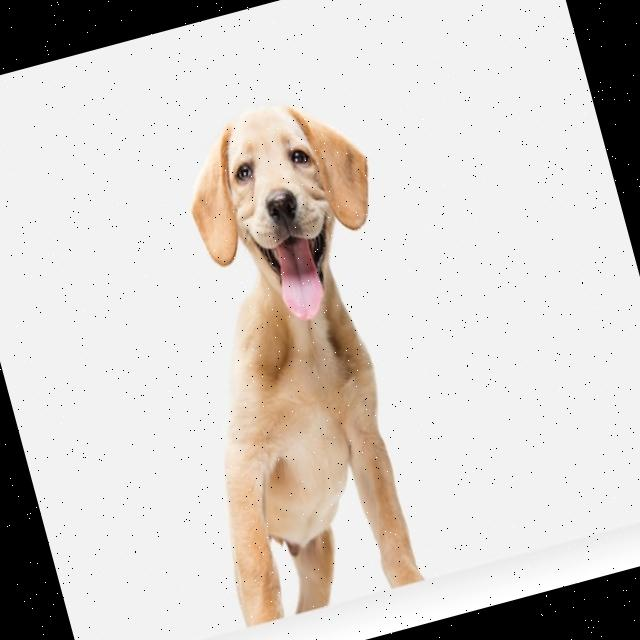Dog: (117, 83, 477, 632)
